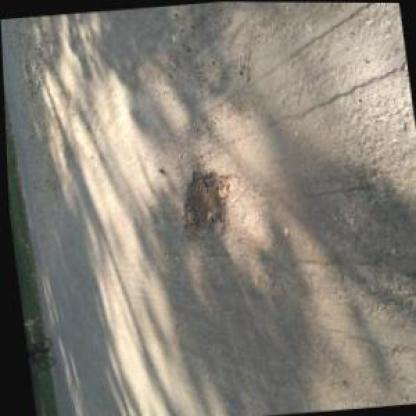pothole: (170, 158, 240, 244)
